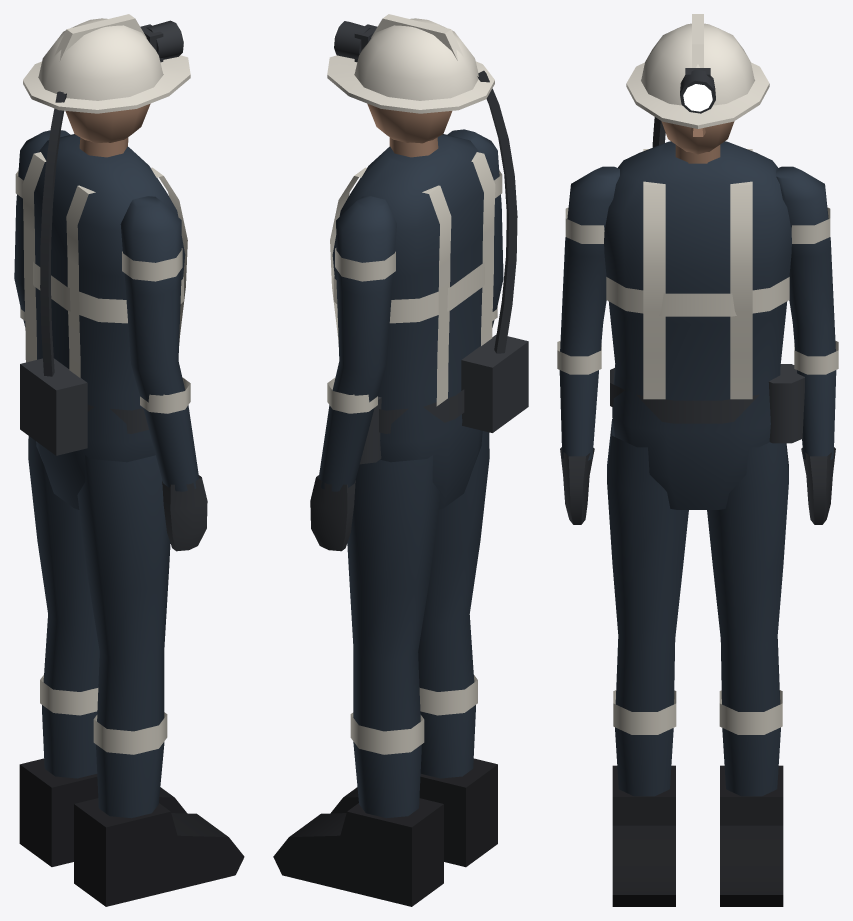
File: miner.glb
The picture shows the model from 3 angles, left to right: view 1: azimuth 30°, elevation 25°; view 2: azimuth 150°, elevation 25°; view 3: azimuth 270°, elevation 25°; orthographic projection.
Visible parts, largest first — view 1: miner_body, miner_bands, miner_helmet, miner_lamp; view 2: miner_body, miner_bands, miner_helmet, miner_lamp; view 3: miner_body, miner_bands, miner_helmet, miner_lamp.
Part boxes in pixels (x1,y1,x2,y2): miner_body: (14,91,244,906); miner_bands: (15,152,190,754); miner_helmet: (23,14,190,113); miner_lamp: (140,20,184,62); miner_body: (273,70,528,906); miner_bands: (327,152,502,754); miner_helmet: (327,14,494,113); miner_lamp: (333,21,377,62); miner_body: (559,117,836,906); miner_bands: (557,149,838,734); miner_helmet: (626,14,769,128); miner_lamp: (680,68,715,113).
Bounding box in the file's own units: 0.4051 × 1.8 × 0.5508.
